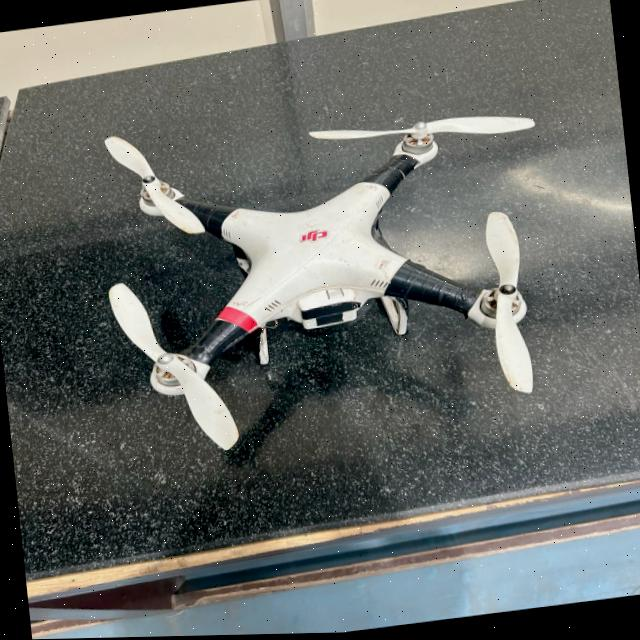drone: (50, 69, 592, 472)
